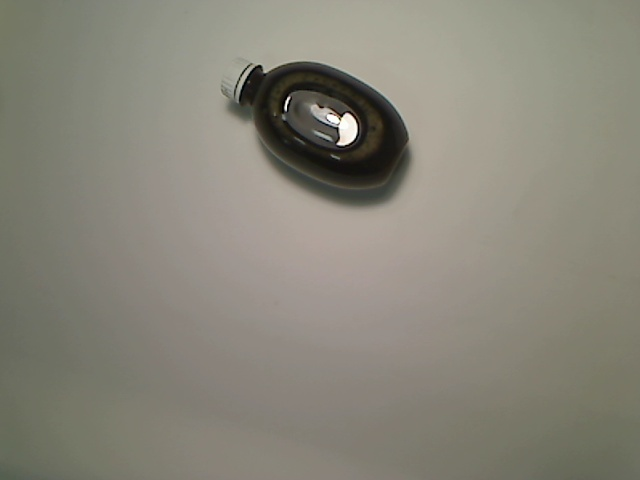plast_bottle: (218, 55, 411, 193)
